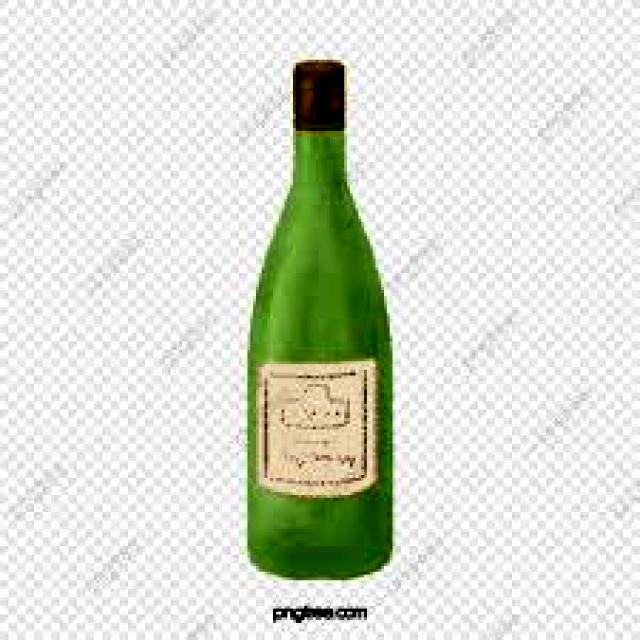Glass: (243, 57, 395, 581)
